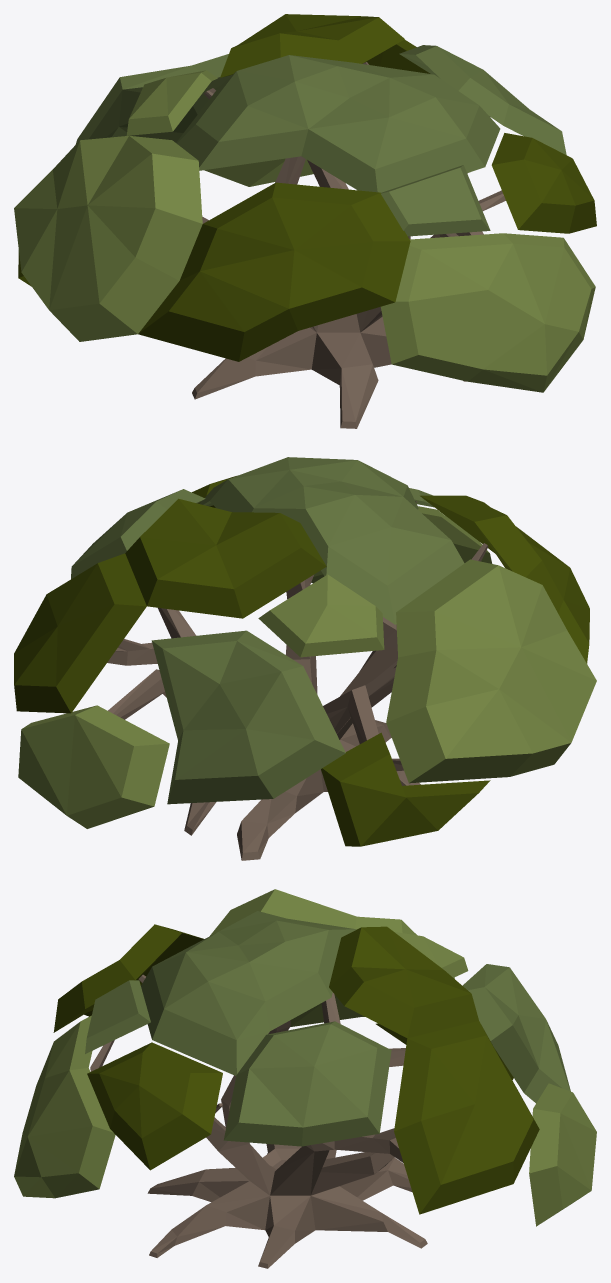
Rendered from tree_0001.dae.
3 renders of one model, top to bottom at view 1: azimuth 30°, elevation 25°; view 2: azimuth 150°, elevation 25°; view 3: azimuth 270°, elevation 25°, orthographic. The views are drawn at different scales.
Visible parts, largest first — view 1: tree_0001; view 2: tree_0001; view 3: tree_0001.
Part boxes in pixels (x1,y1,x2,y2): tree_0001: [14, 14, 596, 428]; tree_0001: [14, 457, 596, 860]; tree_0001: [14, 889, 596, 1268].
Size of the model in its own units: 5.83 by 6.34 by 3.51.
